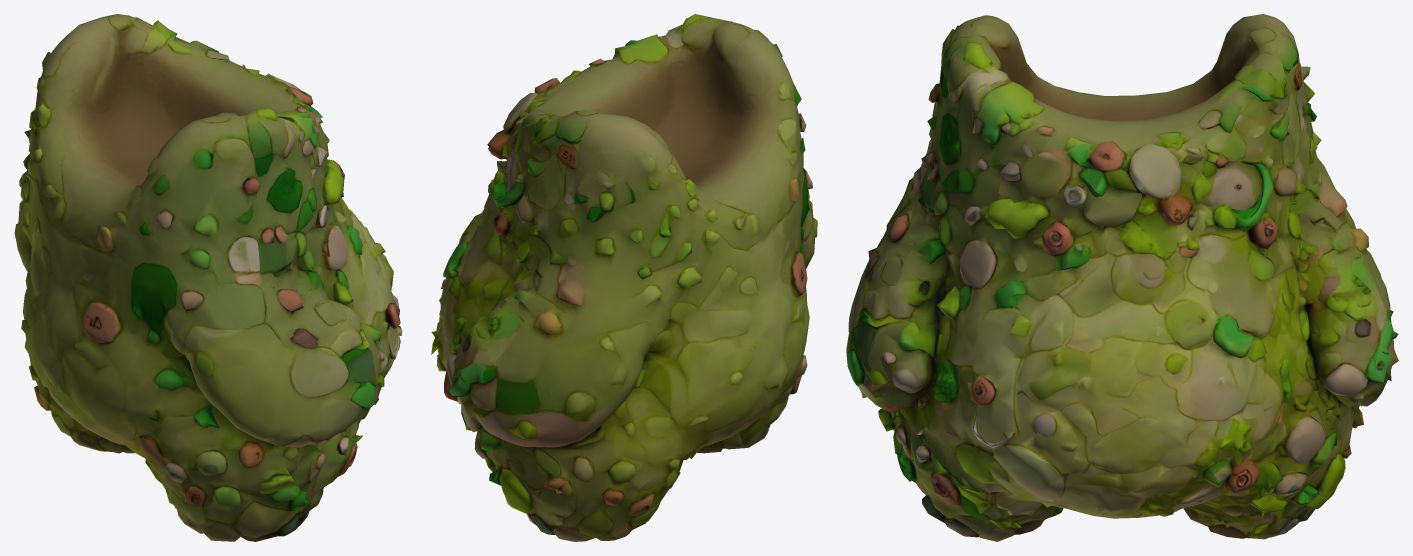
The model's file is body.glb.
3 renders of one model, left to right at view 1: azimuth 30°, elevation 25°; view 2: azimuth 150°, elevation 25°; view 3: azimuth 270°, elevation 25°, orthographic. The views are drawn at different scales.
Visible parts, largest first — view 1: tripo_node_68013ac0-5ad6-44b5-be4e-623e1a4c44dc; view 2: tripo_node_68013ac0-5ad6-44b5-be4e-623e1a4c44dc; view 3: tripo_node_68013ac0-5ad6-44b5-be4e-623e1a4c44dc.
Part boxes in pixels (<box>): tripo_node_68013ac0-5ad6-44b5-be4e-623e1a4c44dc: <box>14,14,402,541</box>; tripo_node_68013ac0-5ad6-44b5-be4e-623e1a4c44dc: <box>431,14,817,541</box>; tripo_node_68013ac0-5ad6-44b5-be4e-623e1a4c44dc: <box>846,14,1398,541</box>.
Size of the model in its own units: 0.7595 by 0.9567 by 1.
Materials: 1 (1 with a texture image).
